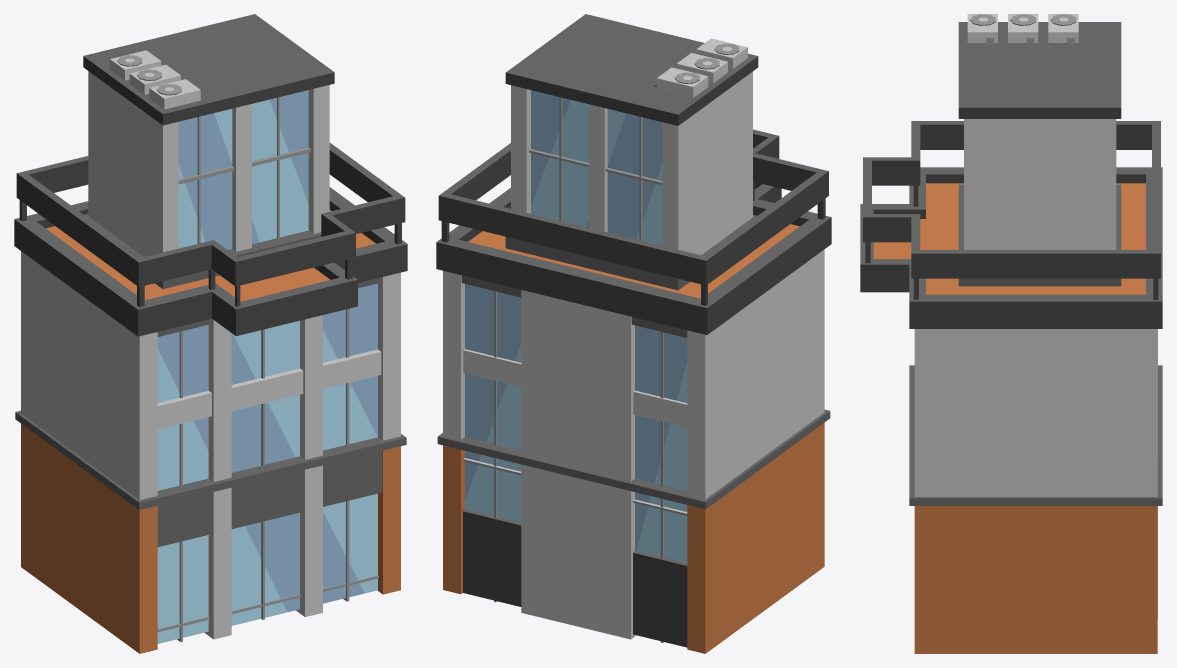
The model's file is hotel_005.glb.
3 views of the same model, side by side, from view 1: azimuth 30°, elevation 25°; view 2: azimuth 150°, elevation 25°; view 3: azimuth 270°, elevation 25° (orthographic). The views are drawn at different scales.
Visible parts, largest first — view 1: hotel_005; view 2: hotel_005; view 3: hotel_005.
Part boxes in pixels (box(x1,y1,x2,y2)): hotel_005: box(14, 14, 407, 653); hotel_005: box(436, 14, 831, 653); hotel_005: box(860, 14, 1162, 653).
Size of the model in its own units: 5.97 by 11.17 by 5.68.
1 material, 1 textured.
